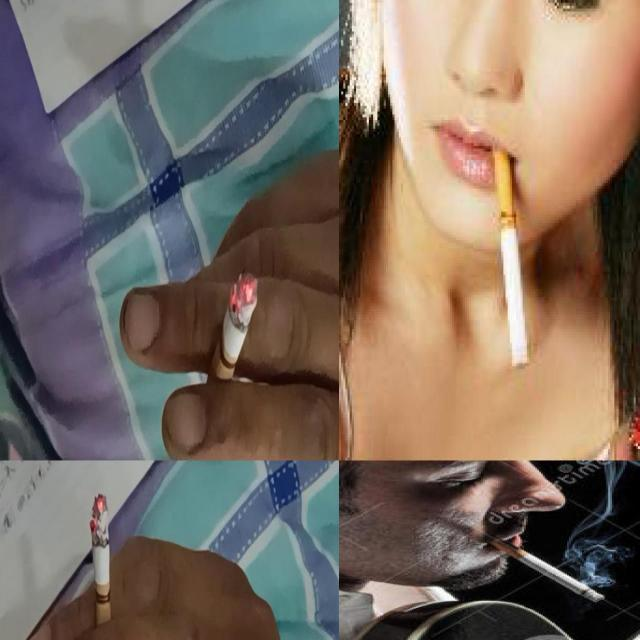cigarette: (492, 142, 530, 372), (200, 269, 260, 406), (487, 537, 607, 604), (90, 492, 113, 640)
